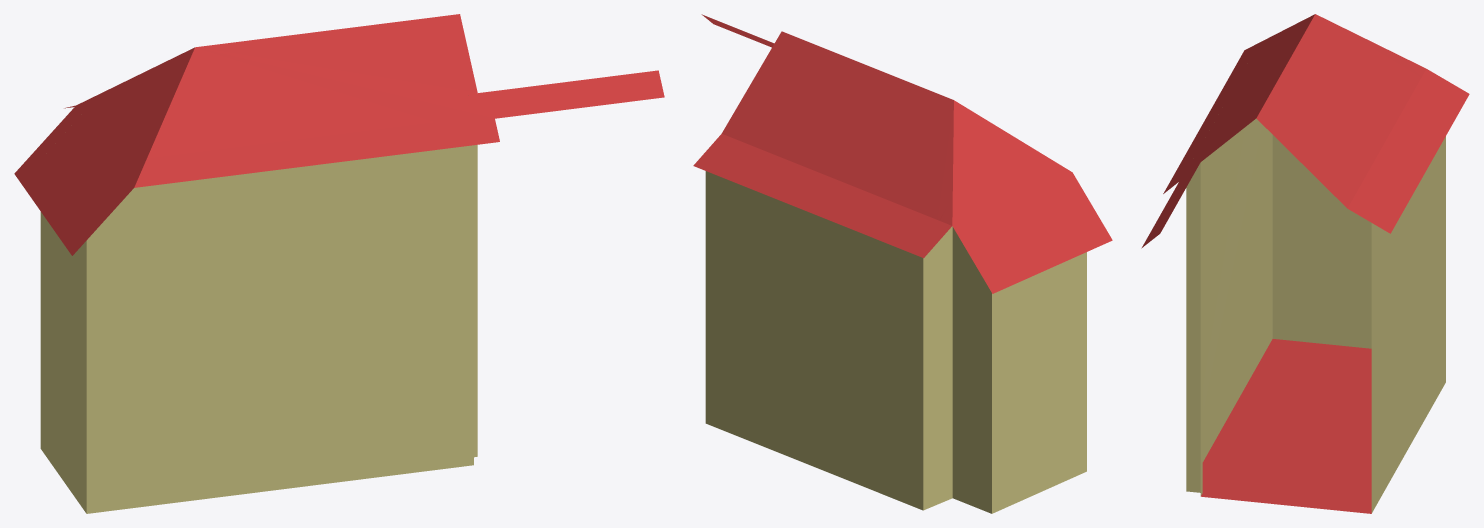
The picture shows the model from 3 angles, left to right: view 1: azimuth 30°, elevation 25°; view 2: azimuth 150°, elevation 25°; view 3: azimuth 270°, elevation 25°; orthographic projection. The views are drawn at different scales.
Size of the model in its own units: 14.47 by 8.4 by 10.83.
